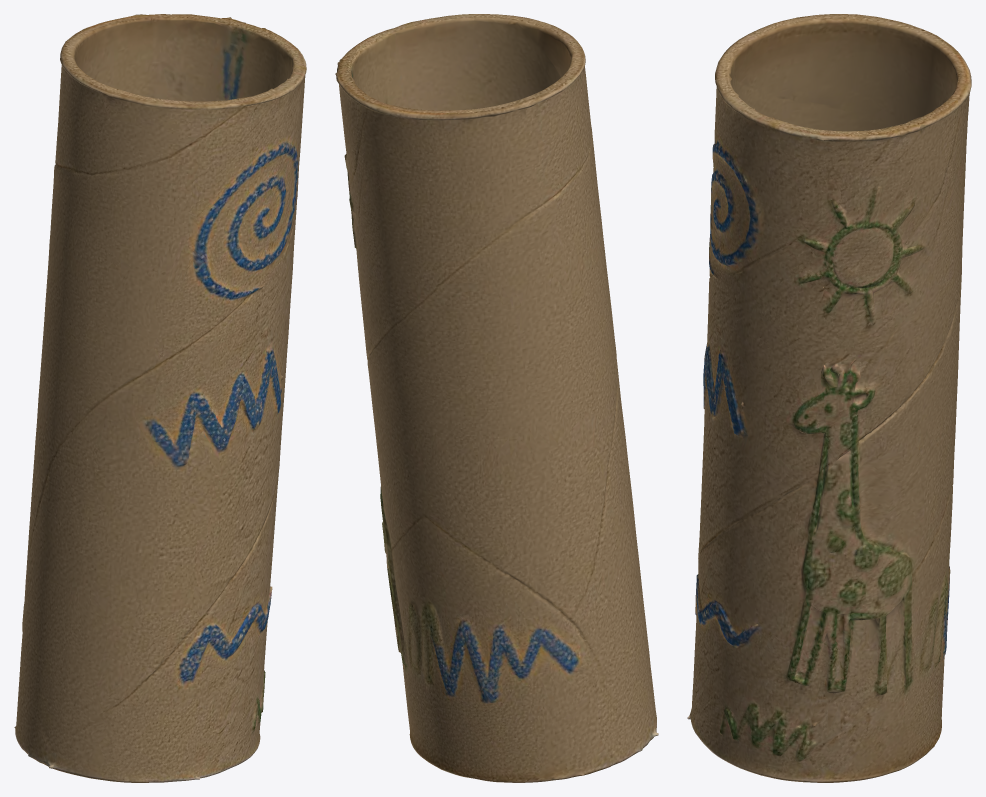
The picture shows the model from 3 angles, left to right: view 1: azimuth 30°, elevation 25°; view 2: azimuth 150°, elevation 25°; view 3: azimuth 270°, elevation 25°; orthographic projection. The views are drawn at different scales.
Visible parts, largest first — view 1: tripo_node_5a93cc77-7764-409b-b67f-127e0fb59787; view 2: tripo_node_5a93cc77-7764-409b-b67f-127e0fb59787; view 3: tripo_node_5a93cc77-7764-409b-b67f-127e0fb59787.
Boxes of the visible parts, x1=… form: tripo_node_5a93cc77-7764-409b-b67f-127e0fb59787: x1=14, y1=14, x2=306, y2=782; tripo_node_5a93cc77-7764-409b-b67f-127e0fb59787: x1=335, y1=14, x2=658, y2=782; tripo_node_5a93cc77-7764-409b-b67f-127e0fb59787: x1=687, y1=14, x2=971, y2=782.
Bounding box in the file's own units: 0.4275 × 1 × 0.3711.
1 material, 1 textured.
